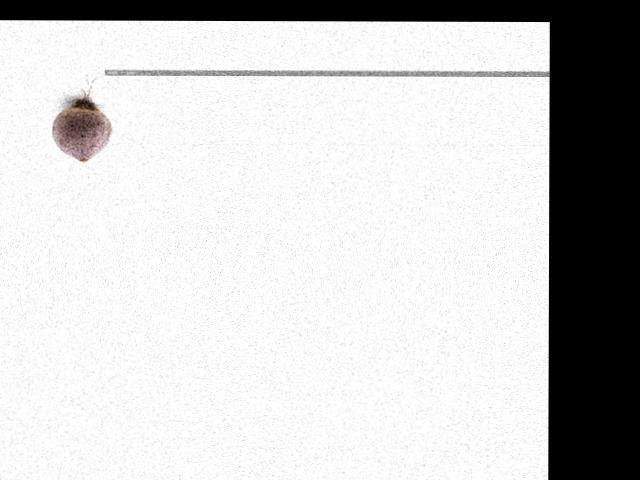beet: (52, 72, 113, 162)
